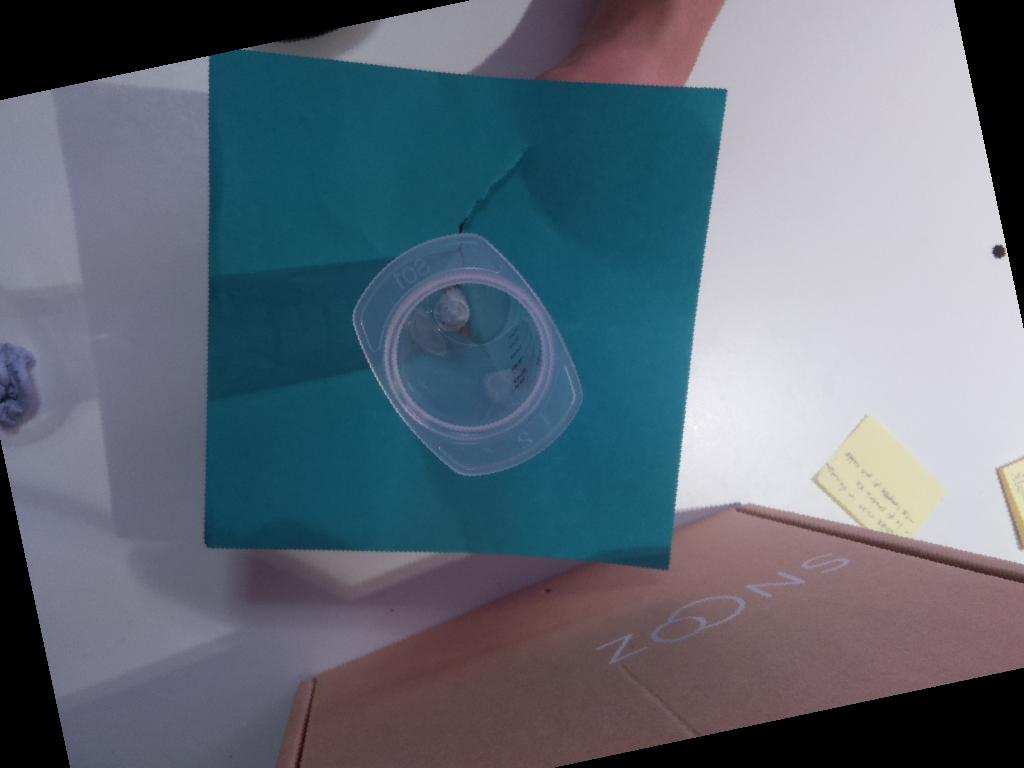clean: (351, 232, 584, 478)
